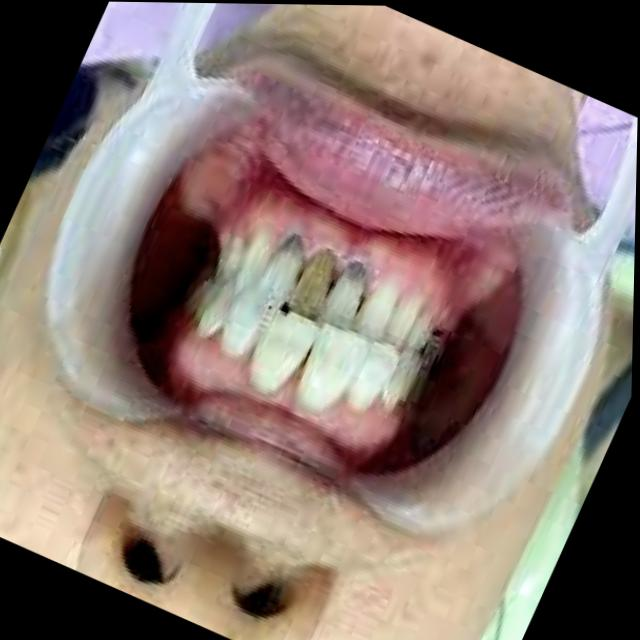tooth-discoloration: (258, 240, 302, 329), (287, 252, 334, 322), (321, 269, 363, 329)
